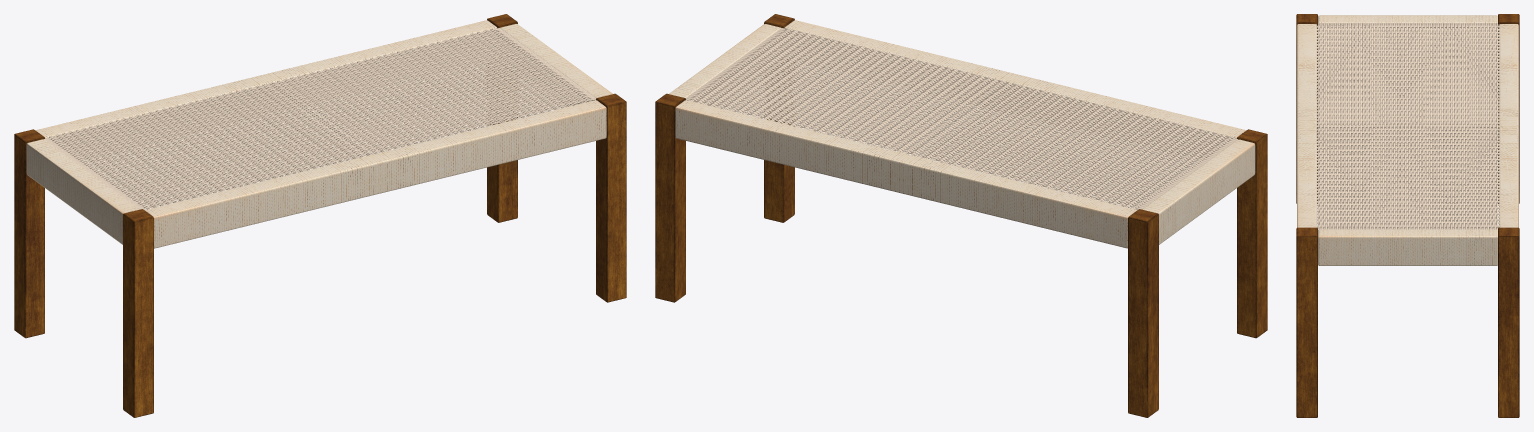
File: B0857JZJPR.glb
3 renders of one model, left to right at view 1: azimuth 30°, elevation 25°; view 2: azimuth 150°, elevation 25°; view 3: azimuth 270°, elevation 25°, orthographic. The views are drawn at different scales.
Parts seen in each view (by area): view 1: RootNode; view 2: RootNode; view 3: RootNode.
Part boxes in pixels (bbox=[...]): RootNode: bbox=[14, 14, 626, 417]; RootNode: bbox=[655, 14, 1267, 417]; RootNode: bbox=[1296, 14, 1519, 417].
Bounding box in the file's own units: 1.2 × 0.4573 × 0.5072.
1 material, 1 textured.
